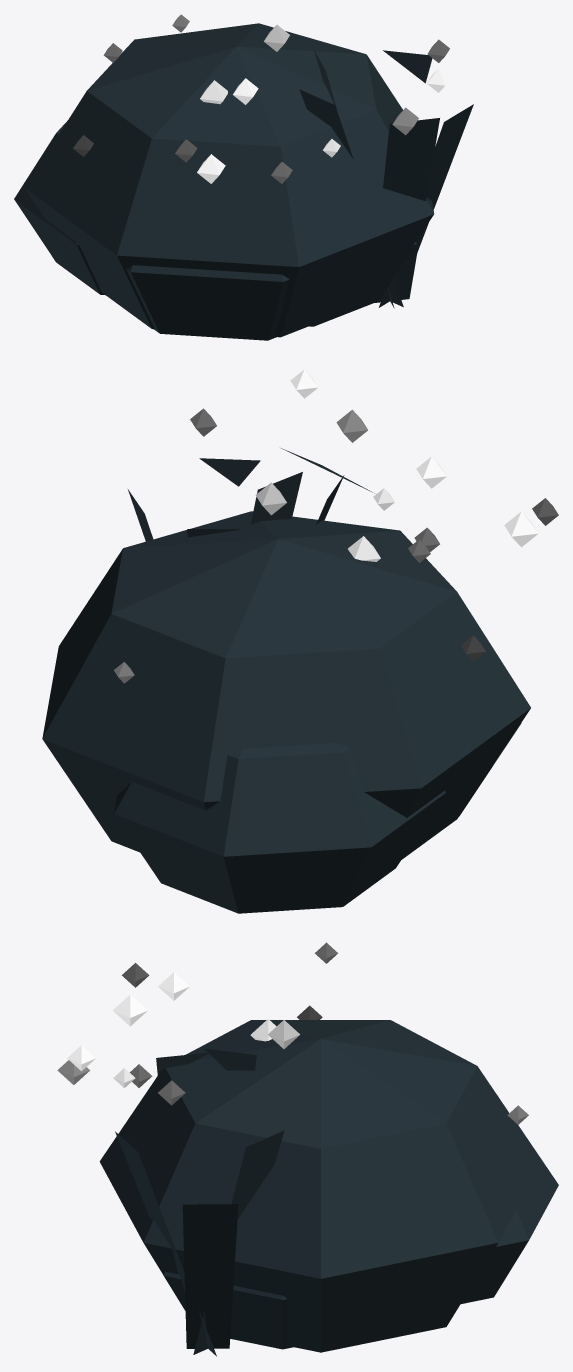
Rendered from shrub_b.glb.
3 views of the same model, one above another, from view 1: azimuth 30°, elevation 25°; view 2: azimuth 150°, elevation 25°; view 3: azimuth 270°, elevation 25° (orthographic). The views are drawn at different scales.
Visible parts, largest first — view 1: shrub_b; view 2: shrub_b; view 3: shrub_b.
Part boxes in pixels (x1,y1,x2,y2): shrub_b: (14, 14, 473, 340); shrub_b: (42, 369, 558, 913); shrub_b: (57, 942, 558, 1356).
Bounding box in the file's own units: 1.77 × 1.18 × 1.78.
2 materials, 1 textured.
